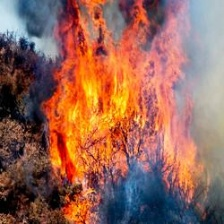fire: (50, 13, 190, 187)
